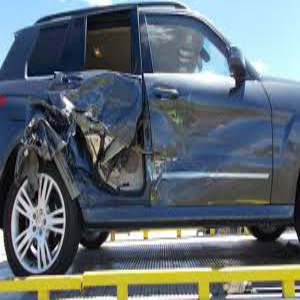bonnet: (83, 41, 284, 124)
